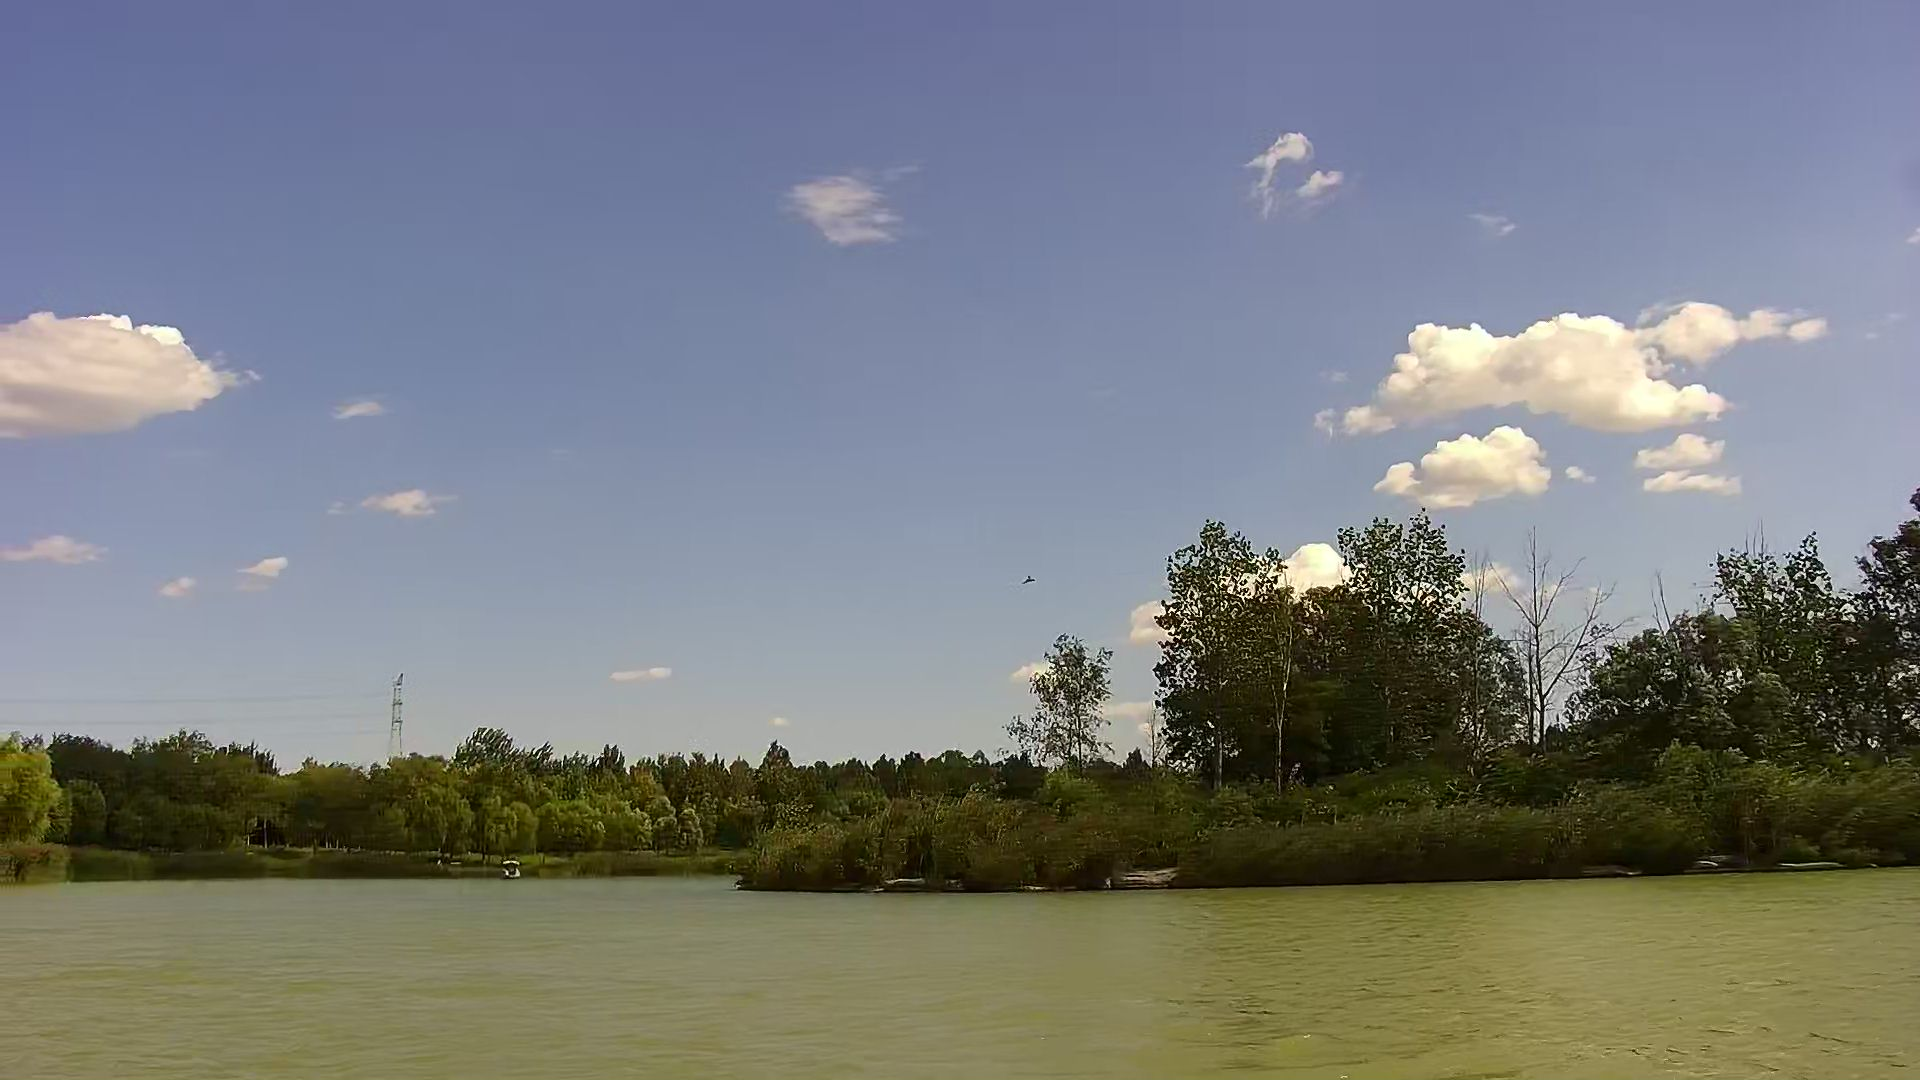rock: (1112, 862, 1179, 887), (869, 873, 940, 891)
